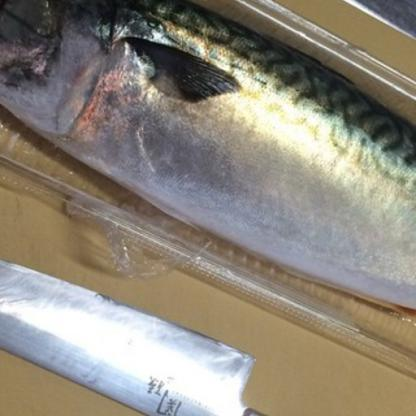knife: (0, 203, 415, 415)
